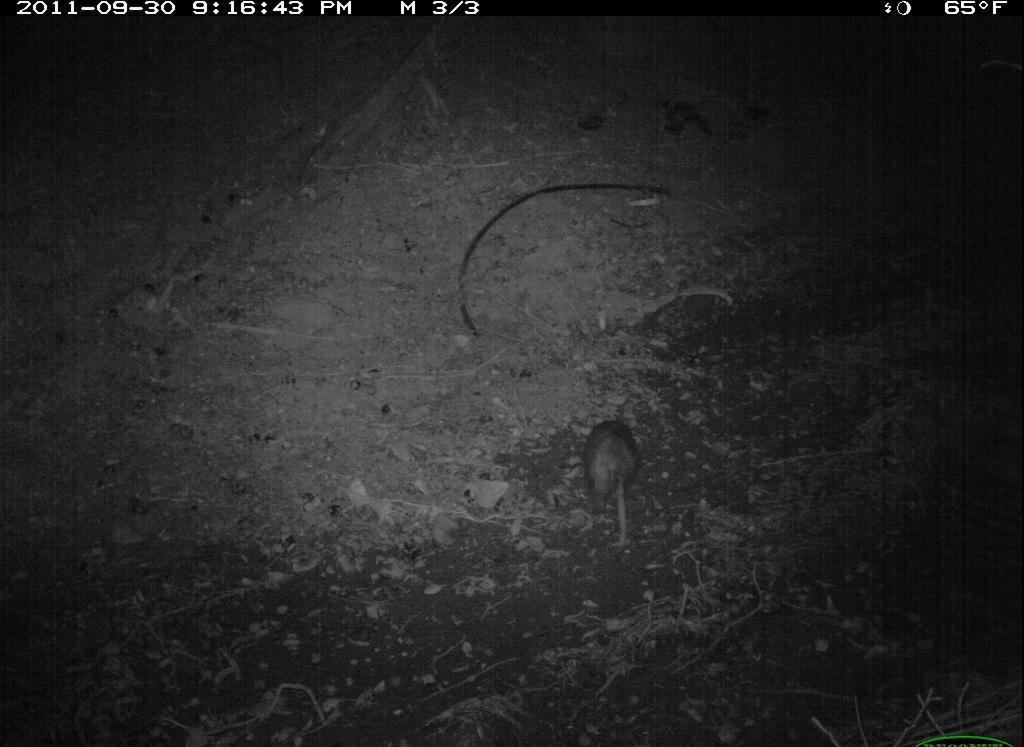opossum: (585, 404, 648, 548)
